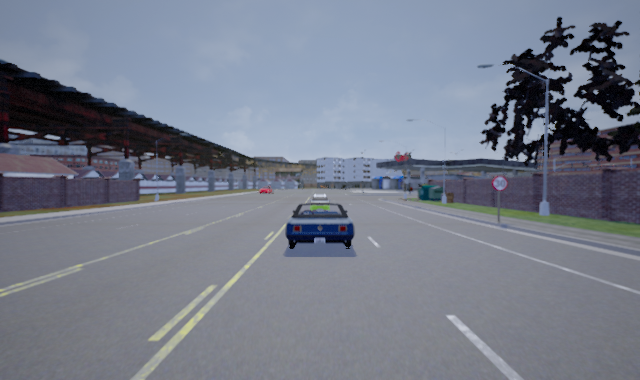vehicle: (284, 199, 355, 254), (308, 193, 331, 215)
